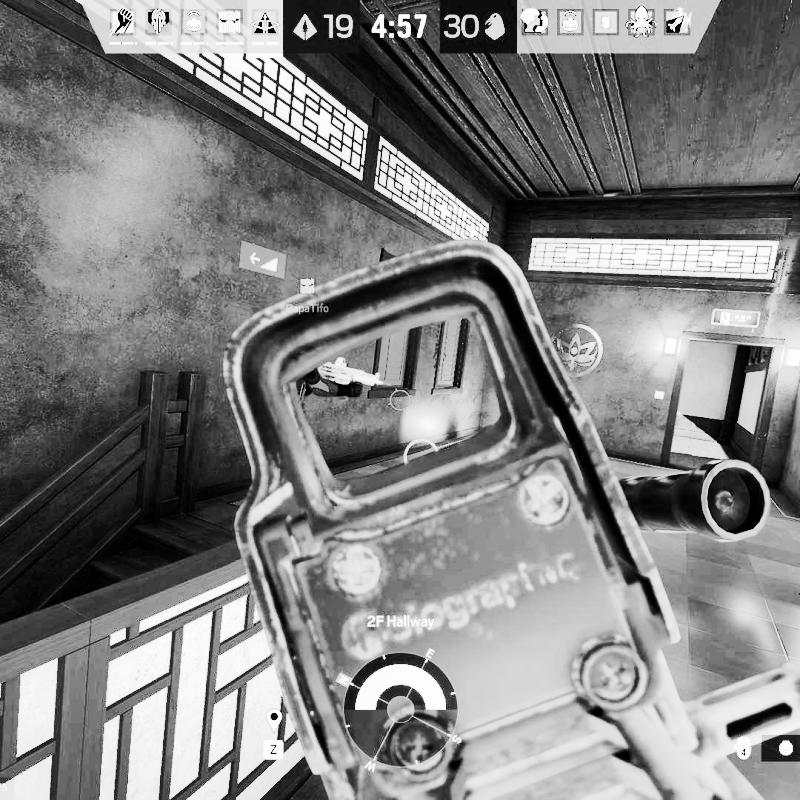Character: (295, 349, 384, 414)
Friend_label: (283, 276, 332, 316)
